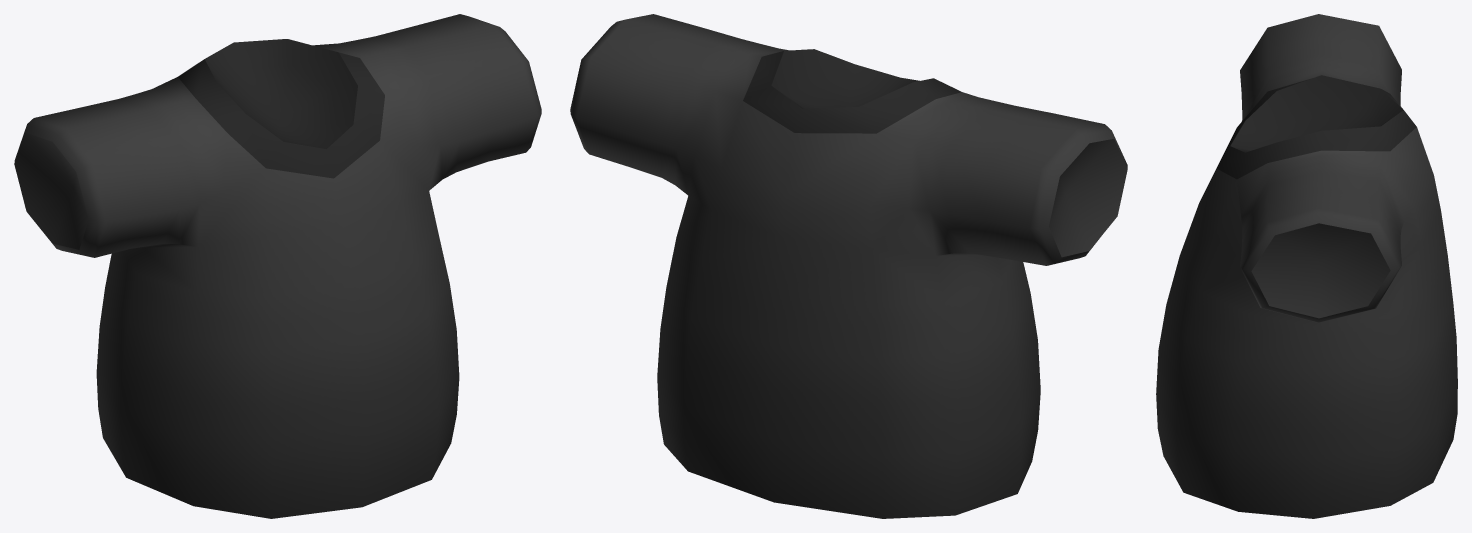
Rendered from Top_05.fbx.
The picture shows the model from 3 angles, left to right: view 1: azimuth 30°, elevation 25°; view 2: azimuth 150°, elevation 25°; view 3: azimuth 270°, elevation 25°; orthographic projection. The views are drawn at different scales.
Parts seen in each view (by area): view 1: Top_05; view 2: Top_05; view 3: Top_05.
Part boxes in pixels (<box>): Top_05: <box>14,14,541,518</box>; Top_05: <box>570,14,1127,518</box>; Top_05: <box>1156,14,1457,518</box>.
Bounding box in the file's own units: 57.92 × 46.22 × 35.79.
